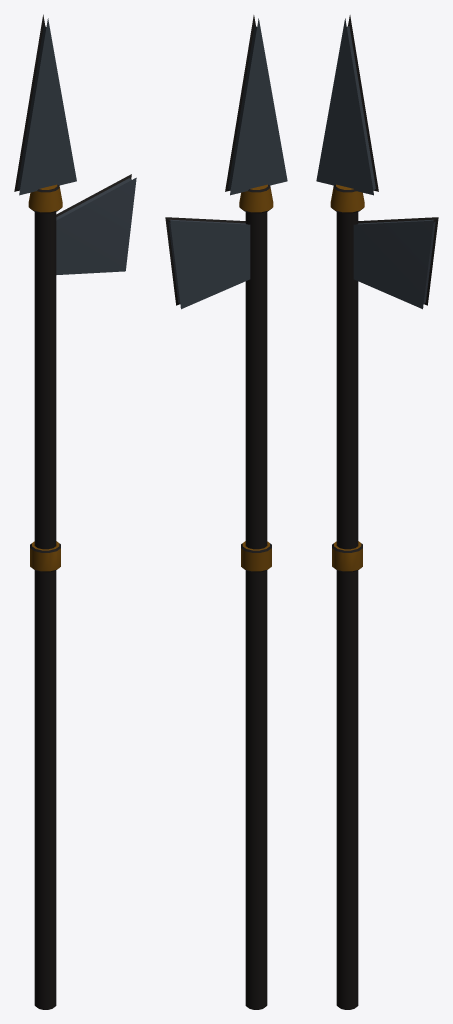
Rendered from Arma_AlabardaBastiao.fbx.
3 renders of one model, left to right at view 1: azimuth 30°, elevation 25°; view 2: azimuth 210°, elevation 25°; view 3: azimuth 330°, elevation 25°, orthographic.
Visible parts, largest first — view 1: Piece; view 2: Piece; view 3: Piece.
Part boxes in pixels (x1,y1,x2,y2): Piece: (14, 14, 136, 1009); Piece: (165, 15, 287, 1009); Piece: (316, 15, 438, 1009).
Bounding box in the file's own units: 0.3387 × 2.73 × 0.0855.
